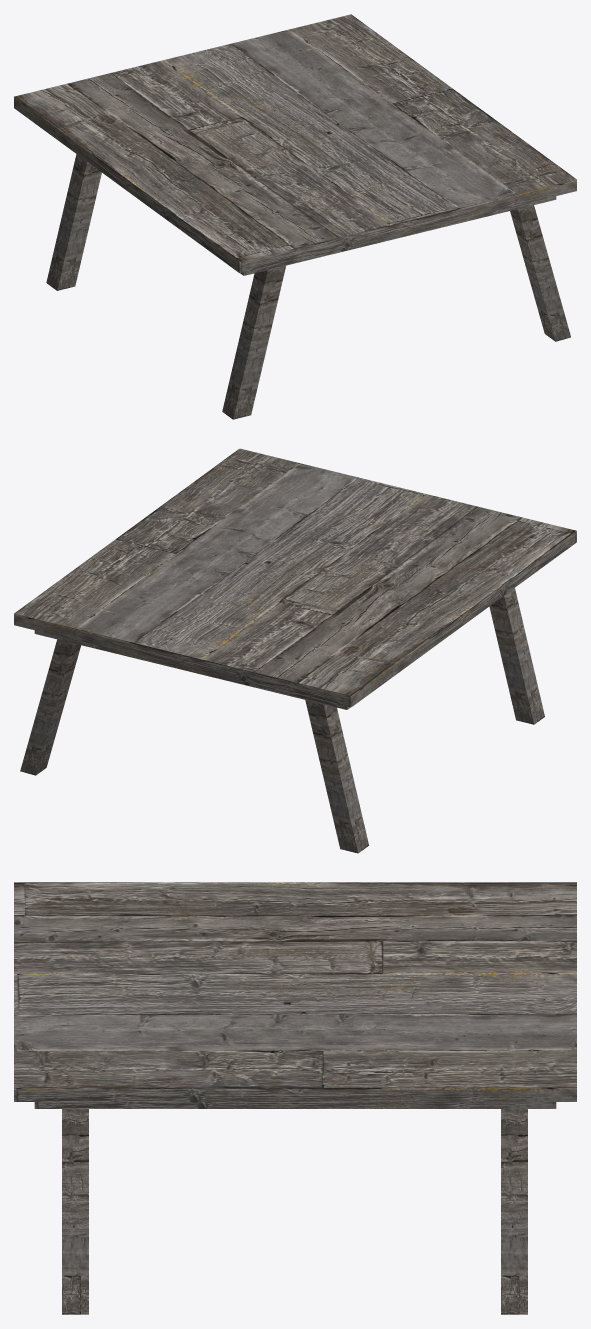
The model's file is Mesa.obj.
3 views of the same model, one above another, from view 1: azimuth 30°, elevation 25°; view 2: azimuth 150°, elevation 25°; view 3: azimuth 270°, elevation 25° (orthographic). The views are drawn at different scales.
Parts seen in each view (by area): view 1: pCube15; view 2: pCube15; view 3: pCube15.
Boxes of the visible parts, <box> form: pCube15: <box>14,14,576,419</box>; pCube15: <box>14,448,576,853</box>; pCube15: <box>14,882,576,1314</box>.
Size of the model in its own units: 9.33 by 4.47 by 10.39.
1 material, 1 textured.
